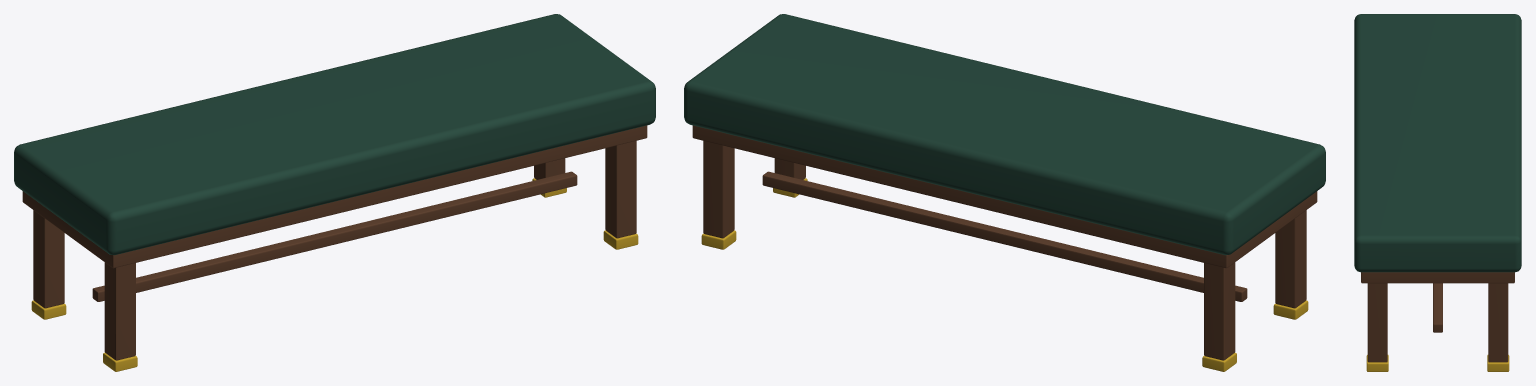
File: prop_bench_gallery.glb
3 views of the same model, side by side, from view 1: azimuth 30°, elevation 25°; view 2: azimuth 150°, elevation 25°; view 3: azimuth 270°, elevation 25° (orthographic). The views are drawn at different scales.
Visible parts, largest first — view 1: Bench; view 2: Bench; view 3: Bench.
Part boxes in pixels (left/top/right/bottom): Bench: left=14, top=14, right=655, bottom=371; Bench: left=684, top=14, right=1325, bottom=371; Bench: left=1354, top=14, right=1521, bottom=371.
Size of what is drawn, in the model's own units: 1.6 by 0.46 by 0.5.
